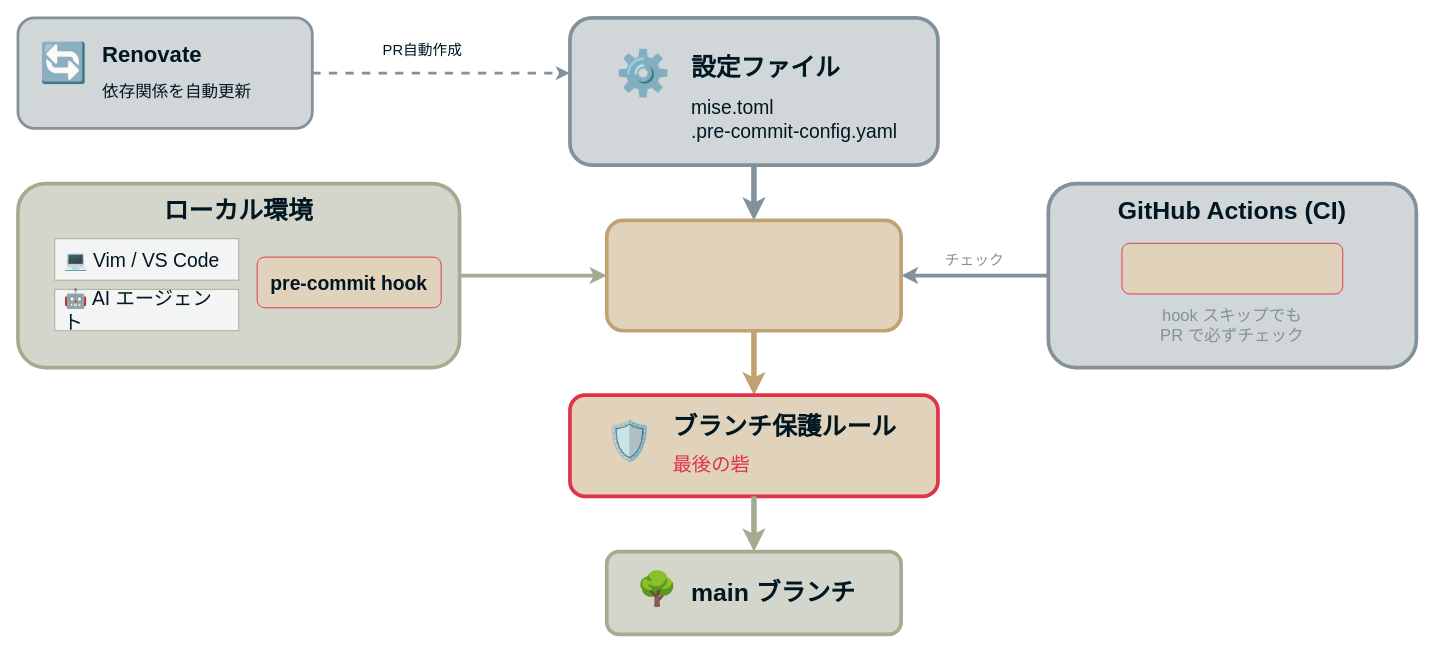
Image size: 1433x651. Some labels were removed from this diagram. The centre of each missing label's shape, as x and y in pixels:
pre-commit run: pixel 1232 268
Pull Request: pixel 753 275
